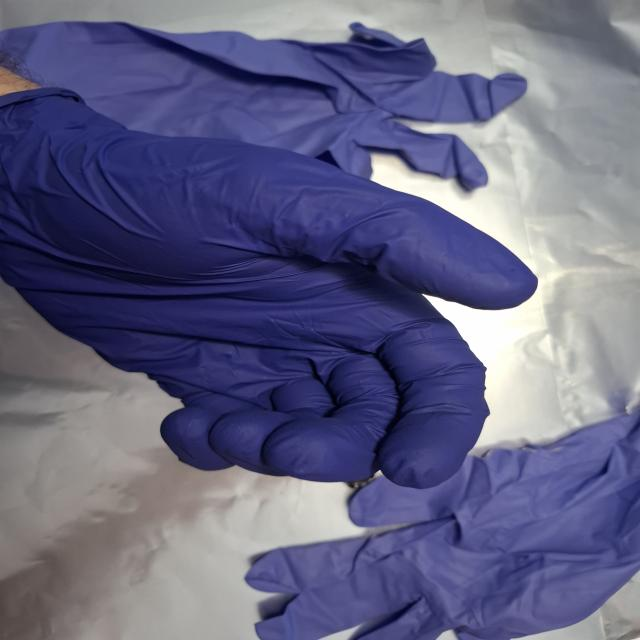glove_on: (0, 87, 542, 493)
